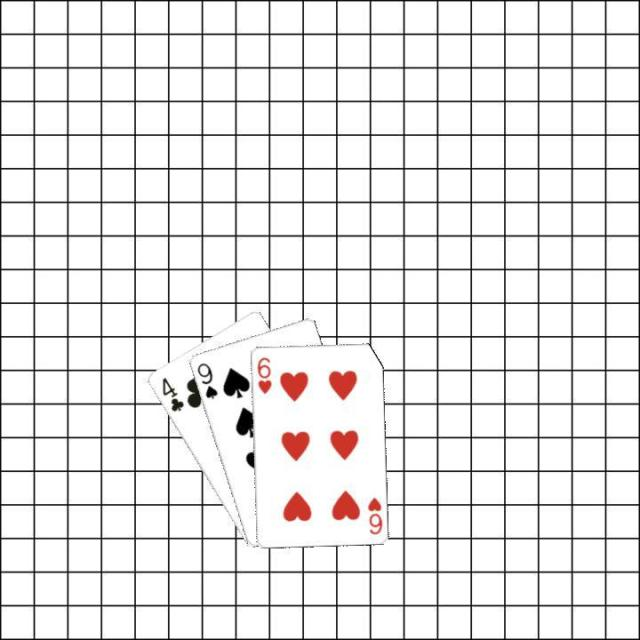4C: (157, 374, 186, 414)
6H: (252, 353, 273, 395), (364, 493, 384, 536)
9S: (193, 359, 219, 401)
